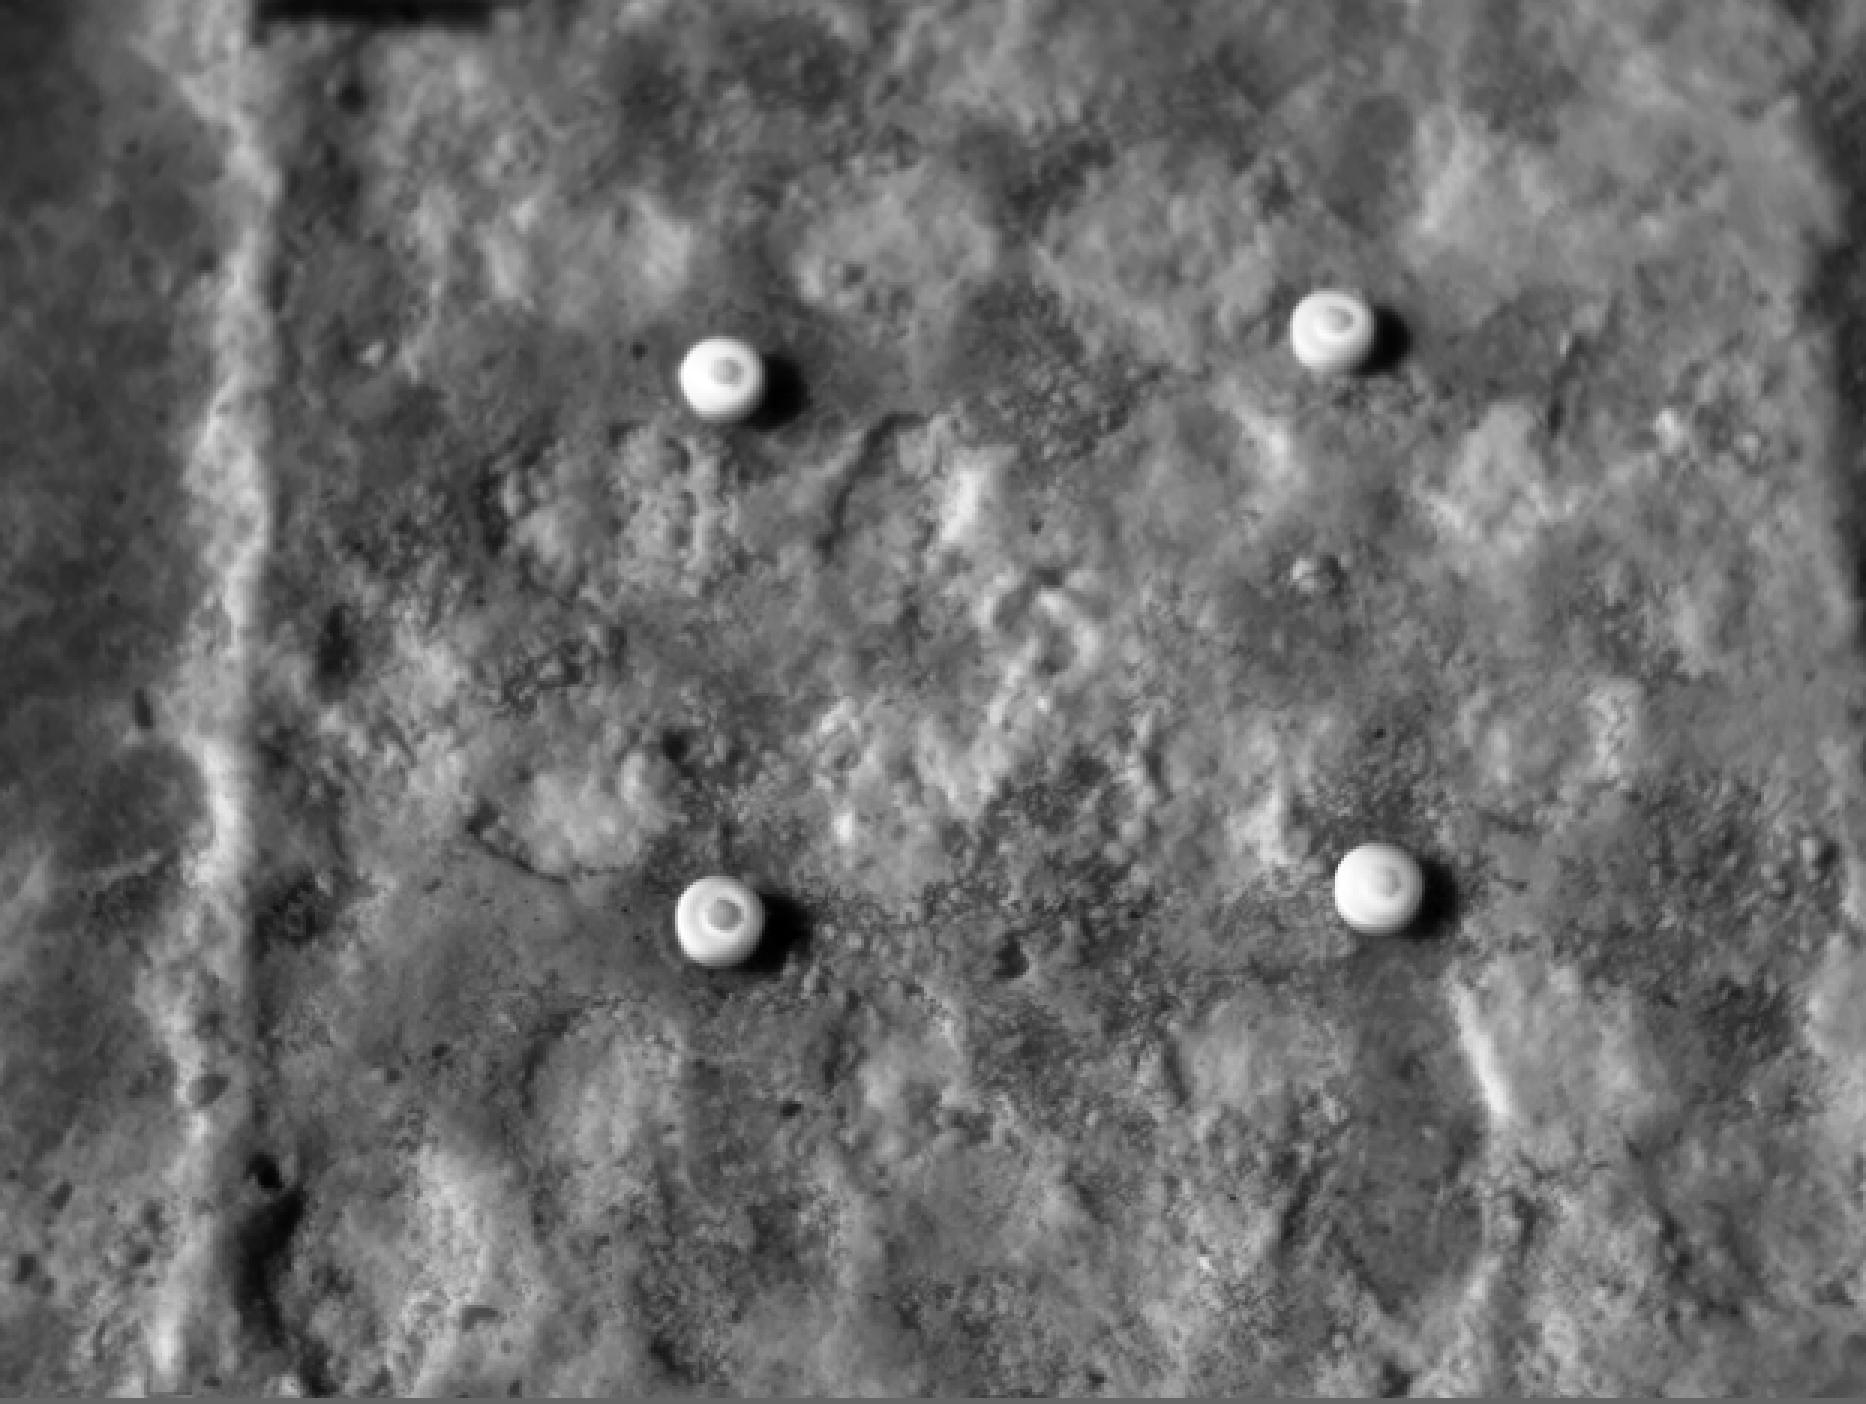mines-gjV8: (1328, 845, 1437, 960), (1288, 288, 1390, 383), (679, 335, 780, 420), (681, 872, 760, 967)
